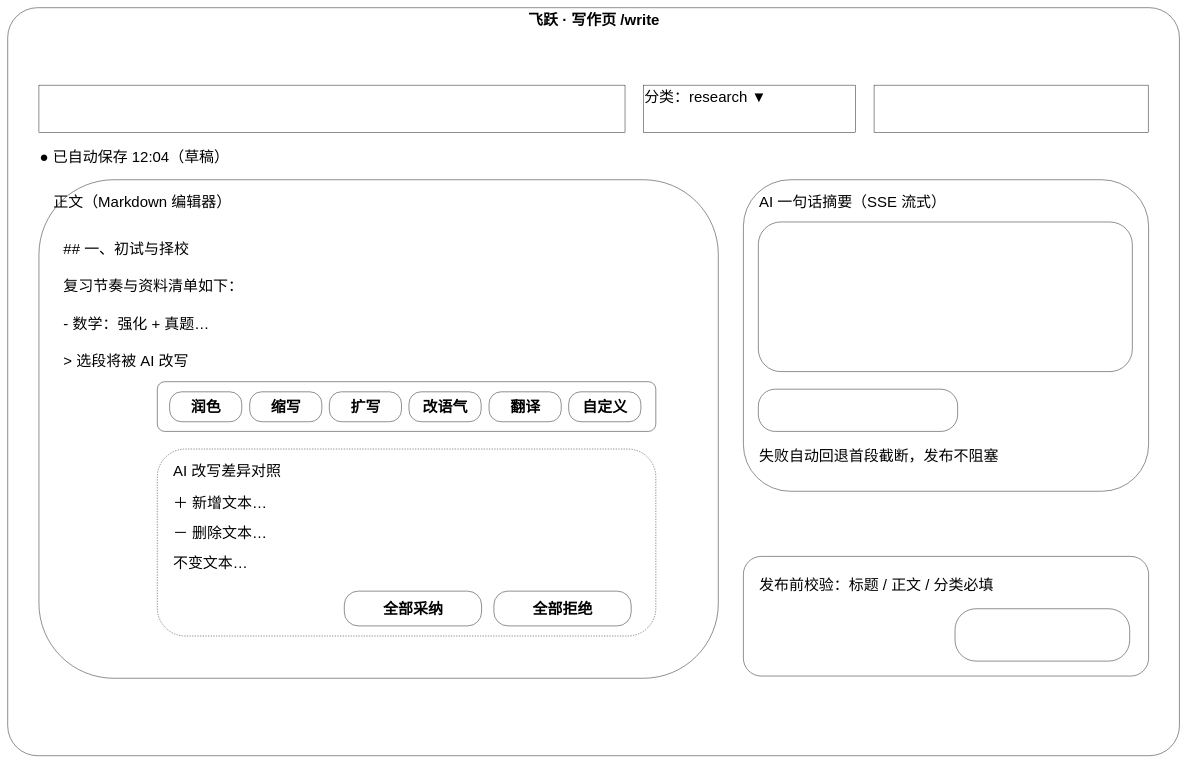
Image size: 1187x763. Some labels were removed from this diagram. Here are the shapes that lost their labels. From the top down, the centre of each, then its label:
(331,109): 标题：飞跃·保研经验与时间线
(1011,109): 标签：#保研 #经验 +
(945,297): 正在生成：面向保研的复习节奏与择校…▍
(858,410): AI 生成摘要
(1042,634): 发布笔记
